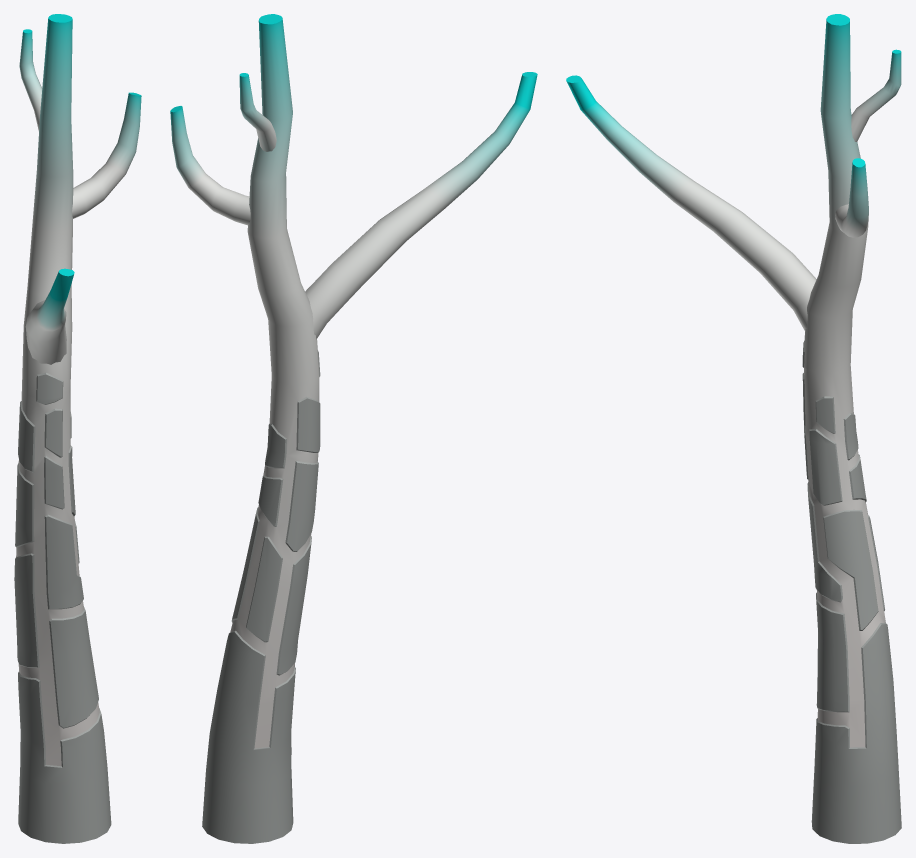
3 renders of one model, left to right at view 1: azimuth 30°, elevation 25°; view 2: azimuth 150°, elevation 25°; view 3: azimuth 270°, elevation 25°, orthographic. The views are drawn at different scales.
Visible parts, largest first — view 1: G:\FFXIV-MapTools\exports\x6f3\bg\ex5\01_xkt_x6\fld\x6f3\bgp (×3); view 2: G:\FFXIV-MapTools\exports\x6f3\bg\ex5\01_xkt_x6\fld\x6f3\bgp (×3); view 3: G:\FFXIV-MapTools\exports\x6f3\bg\ex5\01_xkt_x6\fld\x6f3\bgp (×3).
Boxes of the visible parts, bbox=[...] form: G:\FFXIV-MapTools\exports\x6f3\bg\ex5\01_xkt_x6\fld\x6f3\bgp (×3): bbox=[14, 14, 141, 843]; G:\FFXIV-MapTools\exports\x6f3\bg\ex5\01_xkt_x6\fld\x6f3\bgp (×3): bbox=[170, 14, 537, 843]; G:\FFXIV-MapTools\exports\x6f3\bg\ex5\01_xkt_x6\fld\x6f3\bgp (×3): bbox=[566, 14, 901, 843].
Bounding box in the file's own units: 16.38 × 56.31 × 21.43.
